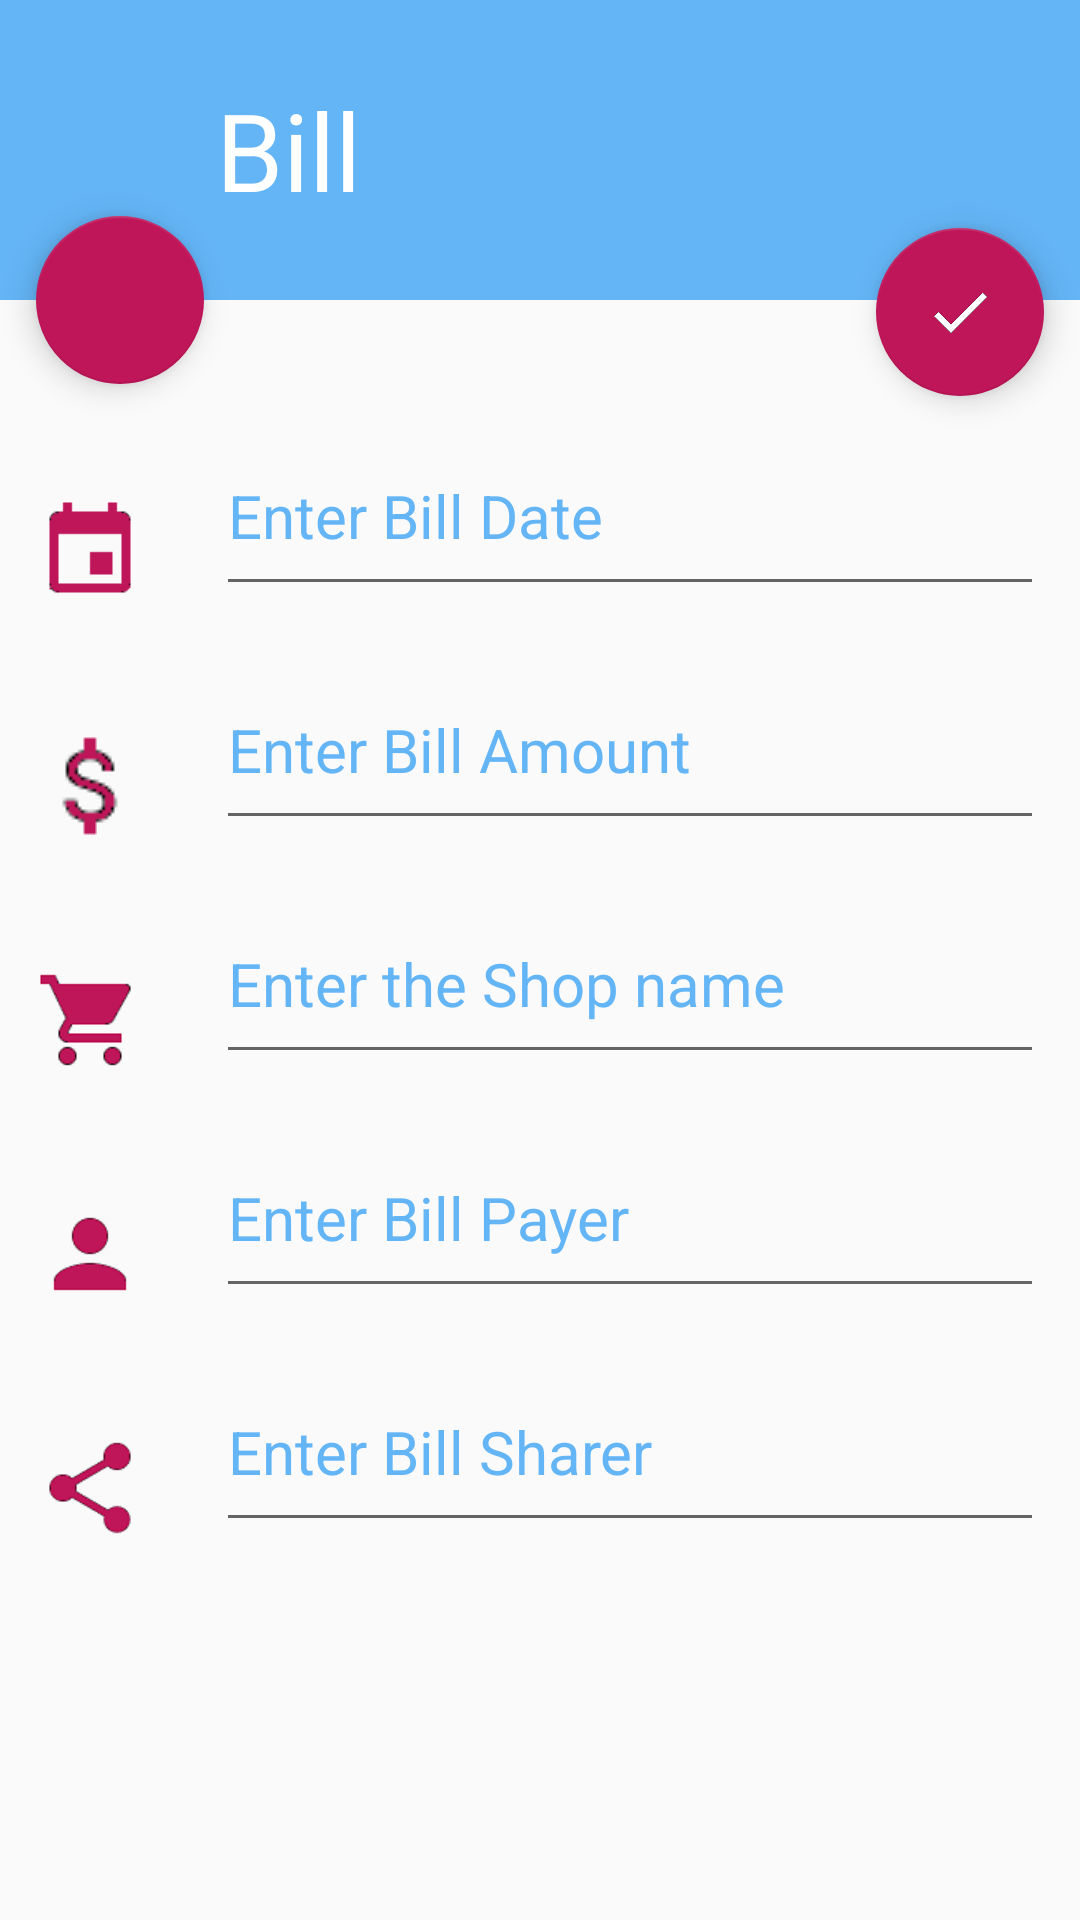

Icons on this 1080px×1920px Android screen, each with the point to tap as [x,y]:
dolar: [90,786]
